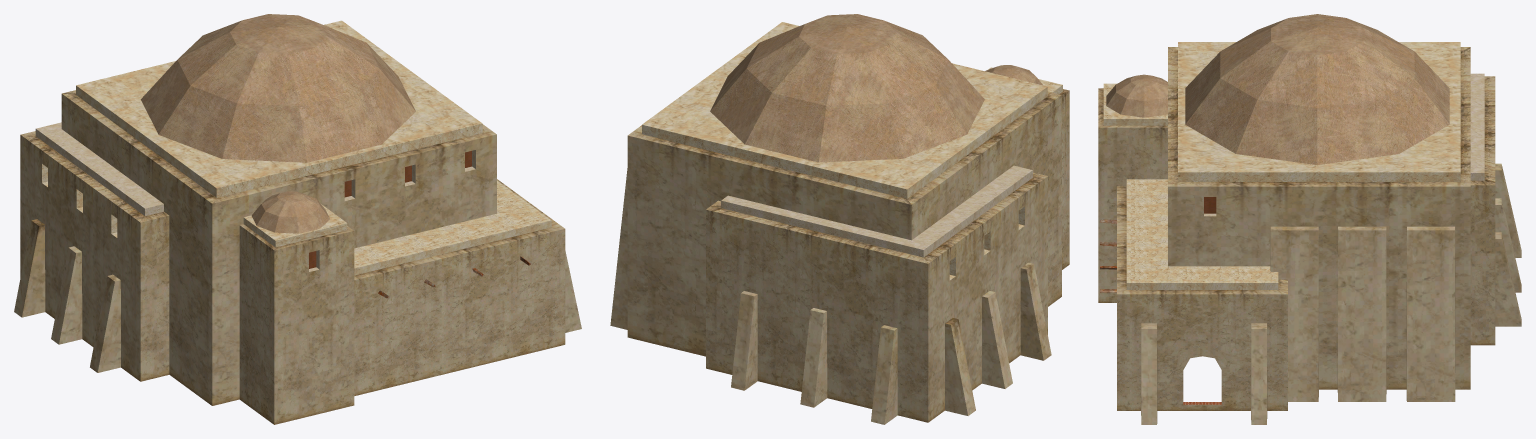
Rendered from thm_tato_imprv_building_s01_r0_mesh_l1.fbx.
The picture shows the model from 3 angles, left to right: view 1: azimuth 30°, elevation 25°; view 2: azimuth 150°, elevation 25°; view 3: azimuth 270°, elevation 25°; orthographic projection.
Parts seen in each view (by area): view 1: mesh_node; view 2: mesh_node; view 3: mesh_node.
Part boxes in pixels (bbox=[...]): mesh_node: bbox=[14, 14, 581, 424]; mesh_node: bbox=[610, 14, 1069, 424]; mesh_node: bbox=[1098, 14, 1521, 424].
Bounding box in the file's own units: 26.2 × 17.79 × 23.43.
